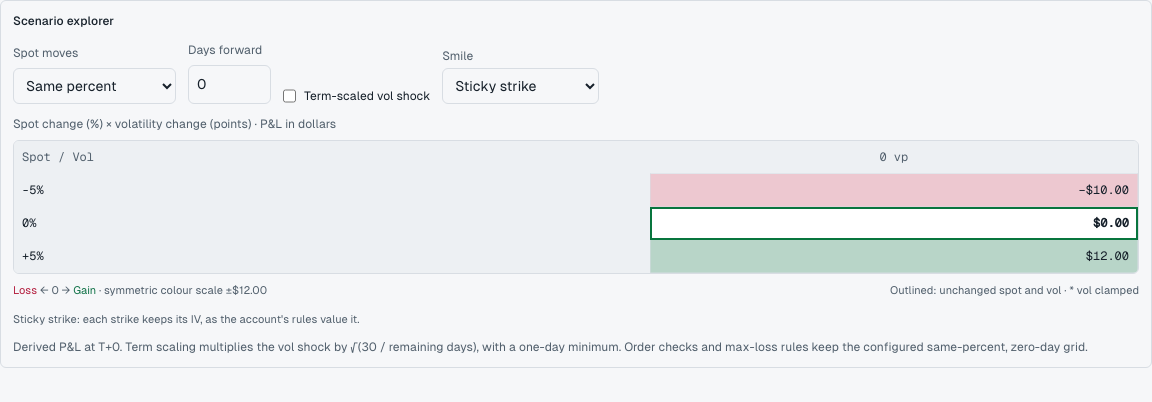
asks for smile dynamics only when moved off sticky strike and names a missing surface
This screenshot has width=1152, height=402.
Step 1. Select "Sticky delta" in the dropdown named "Scenario smile dynamics" → (521, 86), box x1=442 y1=68 x2=599 y2=104
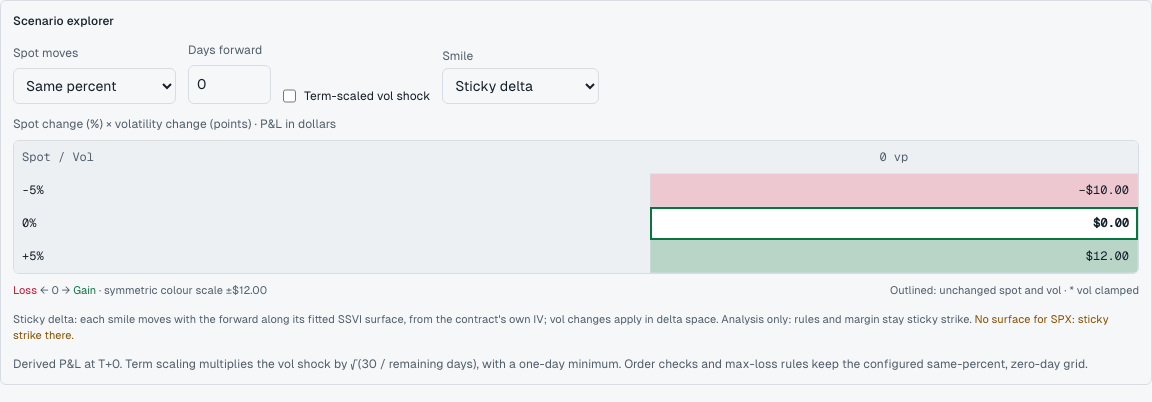
expect the text "No surface for SPX" is shown: met, box x1=13 y1=312 x2=1109 y2=341
expect the text "vol changes apply in delta space" is shown: met, box x1=544 y1=312 x2=716 y2=324
